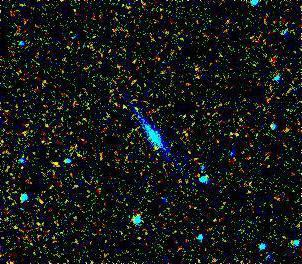star: (47, 150, 77, 180)
